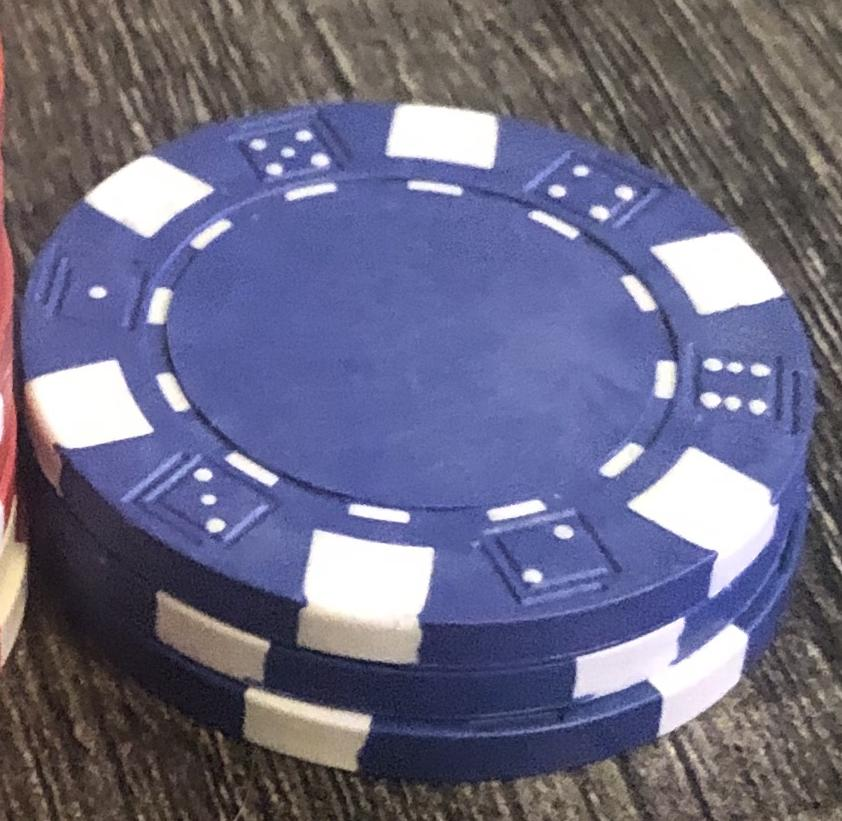Chip: (1, 1, 842, 821)
